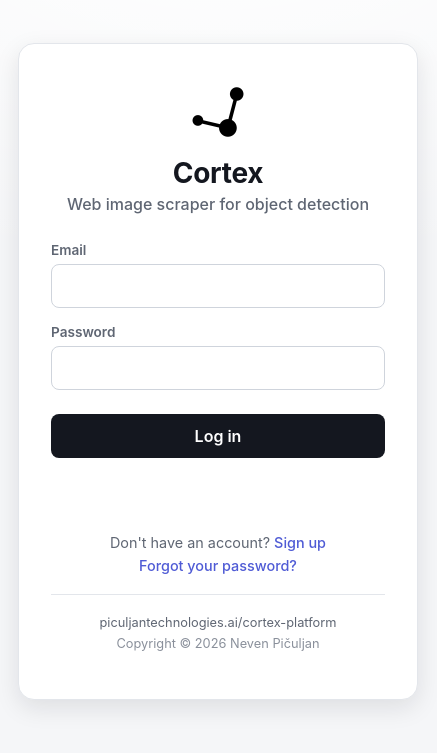
a 401 shows "Invalid credentials" and stays on the page
Type "a@b.c" into the field labelled "Email" at (218, 286), box x1=51 y1=264 x2=385 y2=308
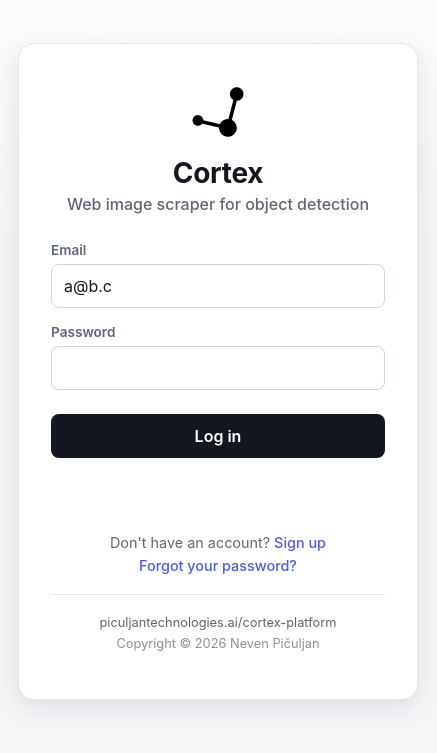
Type "secret1" into the password field labelled "Password" at (218, 368), box x1=51 y1=346 x2=385 y2=390
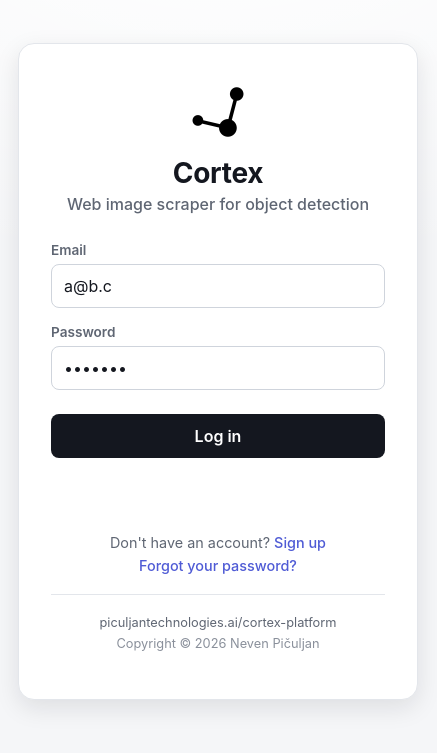
Click the button "Log in" at (218, 436), box x1=51 y1=414 x2=385 y2=458
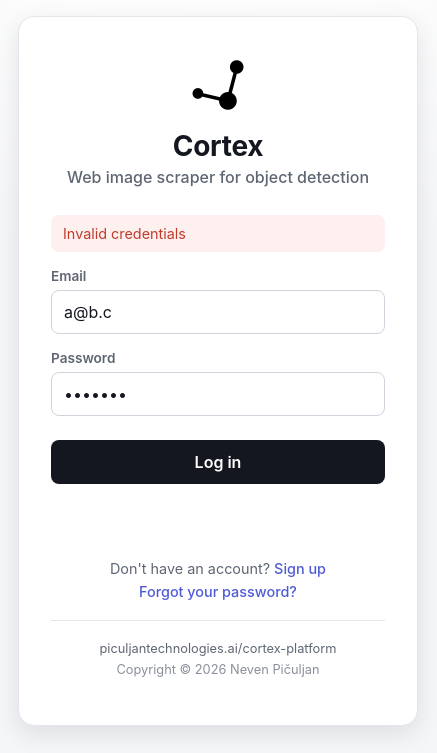
expect the button "Log in" is shown: met, box x1=51 y1=440 x2=385 y2=484
expect the message reads "Invalid credentials": met, box x1=63 y1=225 x2=186 y2=242
